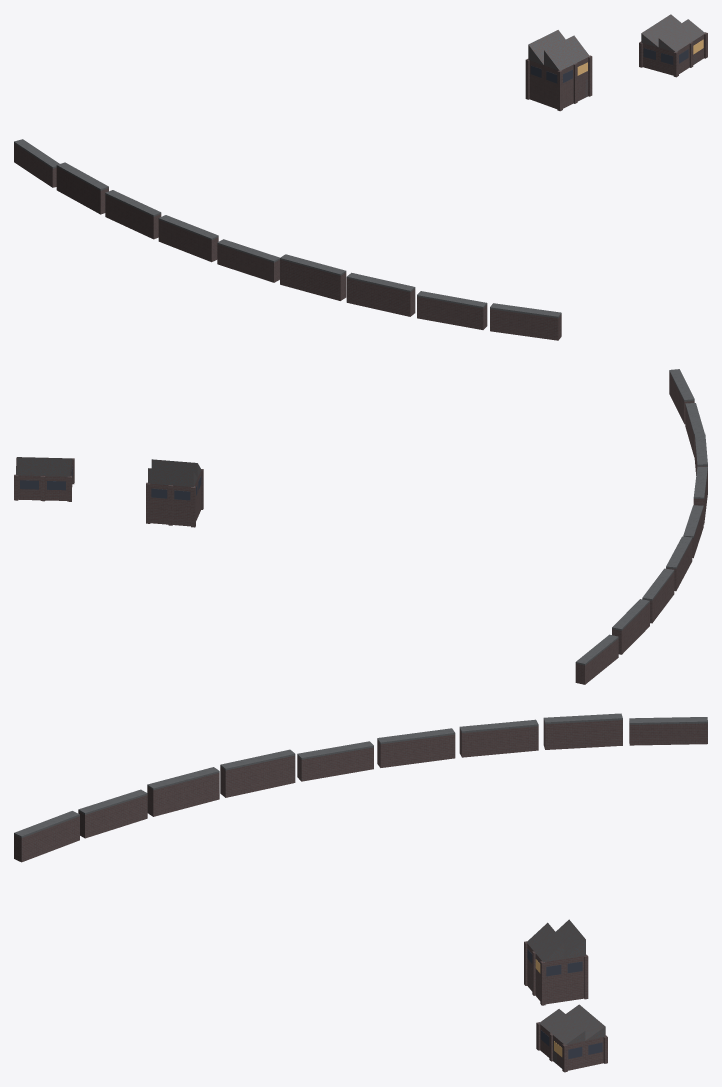
File: SM_City_BaytAlDarb_4.fbx
The picture shows the model from 3 angles, top to bottom: view 1: azimuth 30°, elevation 25°; view 2: azimuth 150°, elevation 25°; view 3: azimuth 270°, elevation 25°; orthographic projection. The views are drawn at different scales.
Parts seen in each view (by area): view 1: SM_City_BaytAlDarb_4; view 2: SM_City_BaytAlDarb_4; view 3: SM_City_BaytAlDarb_4.
Part boxes in pixels (x1=…): SM_City_BaytAlDarb_4: x1=14, y1=14, x2=707, y2=340; SM_City_BaytAlDarb_4: x1=14, y1=369, x2=707, y2=684; SM_City_BaytAlDarb_4: x1=14, y1=713, x2=707, y2=1072.
Bounding box in the file's own units: 8329 × 688 × 7332.
6 materials, 6 textured.
